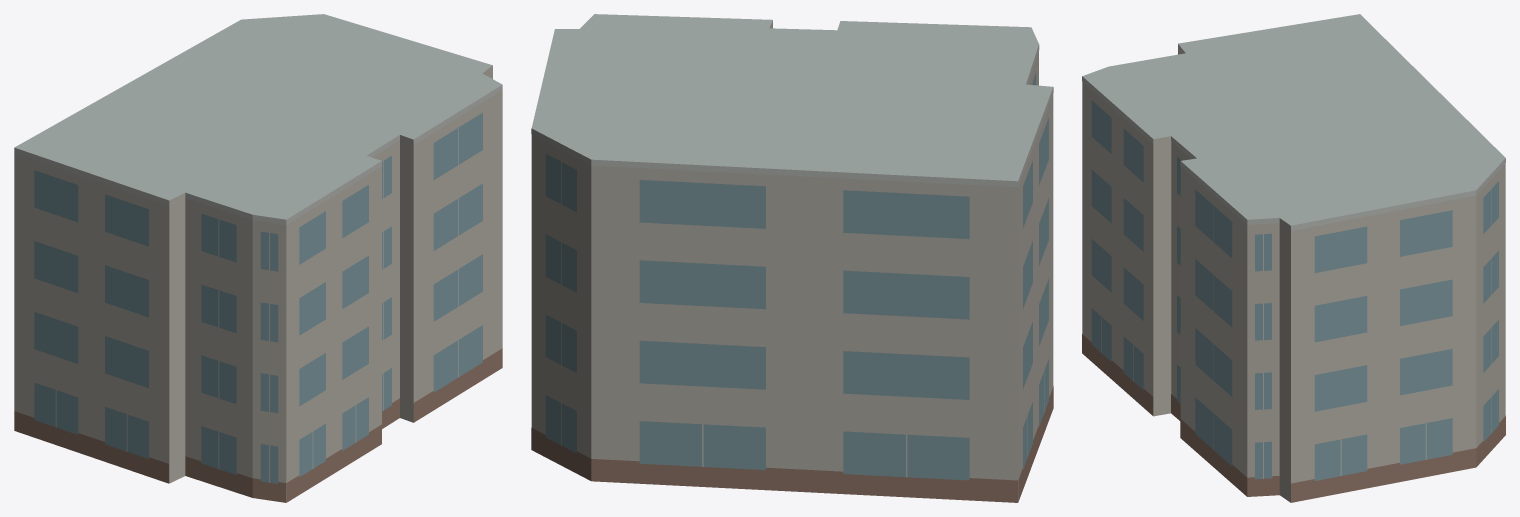
Rendered from survey-upis-32987768.glb.
The picture shows the model from 3 angles, left to right: view 1: azimuth 30°, elevation 25°; view 2: azimuth 150°, elevation 25°; view 3: azimuth 270°, elevation 25°; orthographic projection. The views are drawn at different scales.
Parts seen in each view (by area): view 1: survey-upis-32987768.tmp; view 2: survey-upis-32987768.tmp; view 3: survey-upis-32987768.tmp.
Boxes of the visible parts, x1,y1,x2,y2 form: survey-upis-32987768.tmp: (14, 14, 502, 502); survey-upis-32987768.tmp: (531, 14, 1053, 502); survey-upis-32987768.tmp: (1082, 14, 1505, 502).
Bounding box in the file's own units: 21.22 × 12.95 × 17.94.
